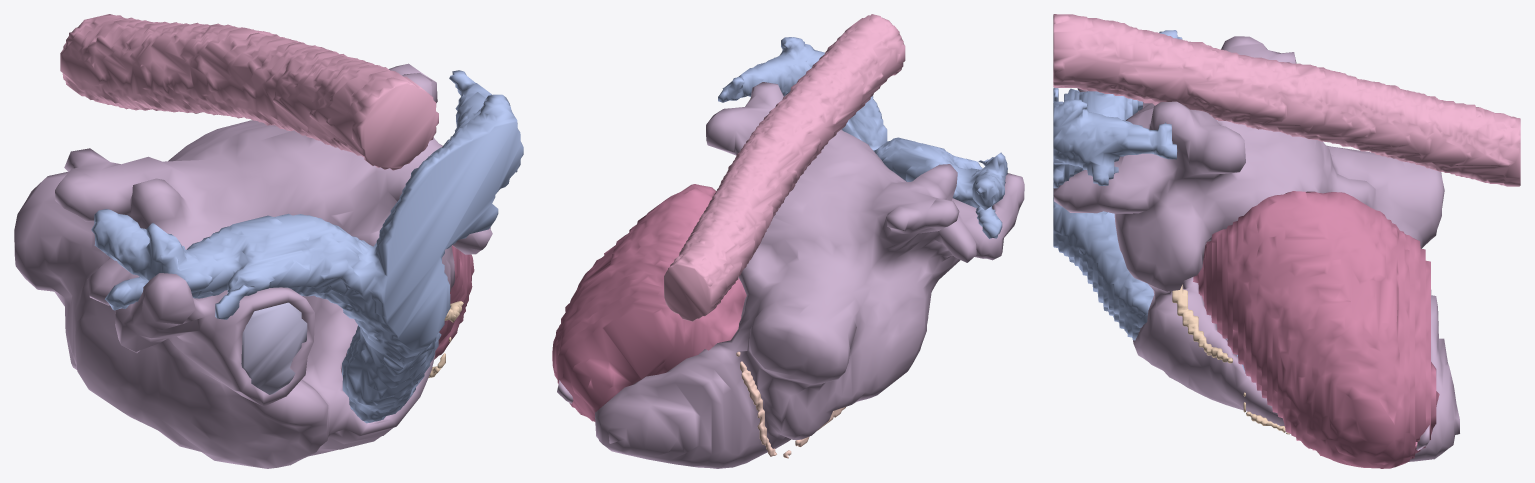
3 views of the same model, side by side, from view 1: azimuth 30°, elevation 25°; view 2: azimuth 150°, elevation 25°; view 3: azimuth 270°, elevation 25° (orthographic). The views are drawn at different scales.
Parts seen in each view (by area): view 1: heart-wall, pulmonary-artery, aorta, right-atrium, myocardium; view 2: heart-wall, aorta, myocardium, pulmonary-artery, right-coronary-artery; view 3: myocardium, heart-wall, aorta, pulmonary-artery, left-coronary-artery.
Part boxes in pixels (bbox=[...]): heart-wall: bbox=[14, 63, 492, 468]; pulmonary-artery: bbox=[91, 70, 523, 423]; aorta: bbox=[60, 14, 438, 170]; right-atrium: bbox=[241, 302, 307, 394]; myocardium: bbox=[434, 245, 474, 359]; heart-wall: bbox=[557, 82, 1024, 468]; aorta: bbox=[664, 14, 905, 321]; myocardium: bbox=[552, 184, 746, 421]; pulmonary-artery: bbox=[718, 37, 1007, 238]; right-coronary-artery: bbox=[736, 351, 845, 458]; myocardium: bbox=[1193, 191, 1439, 468]; heart-wall: bbox=[1053, 36, 1459, 461]; aorta: bbox=[1053, 14, 1520, 186]; pulmonary-artery: bbox=[1053, 30, 1182, 340]; left-coronary-artery: bbox=[1172, 284, 1318, 452].
Size of the model in its own units: 138 by 132 by 142.
